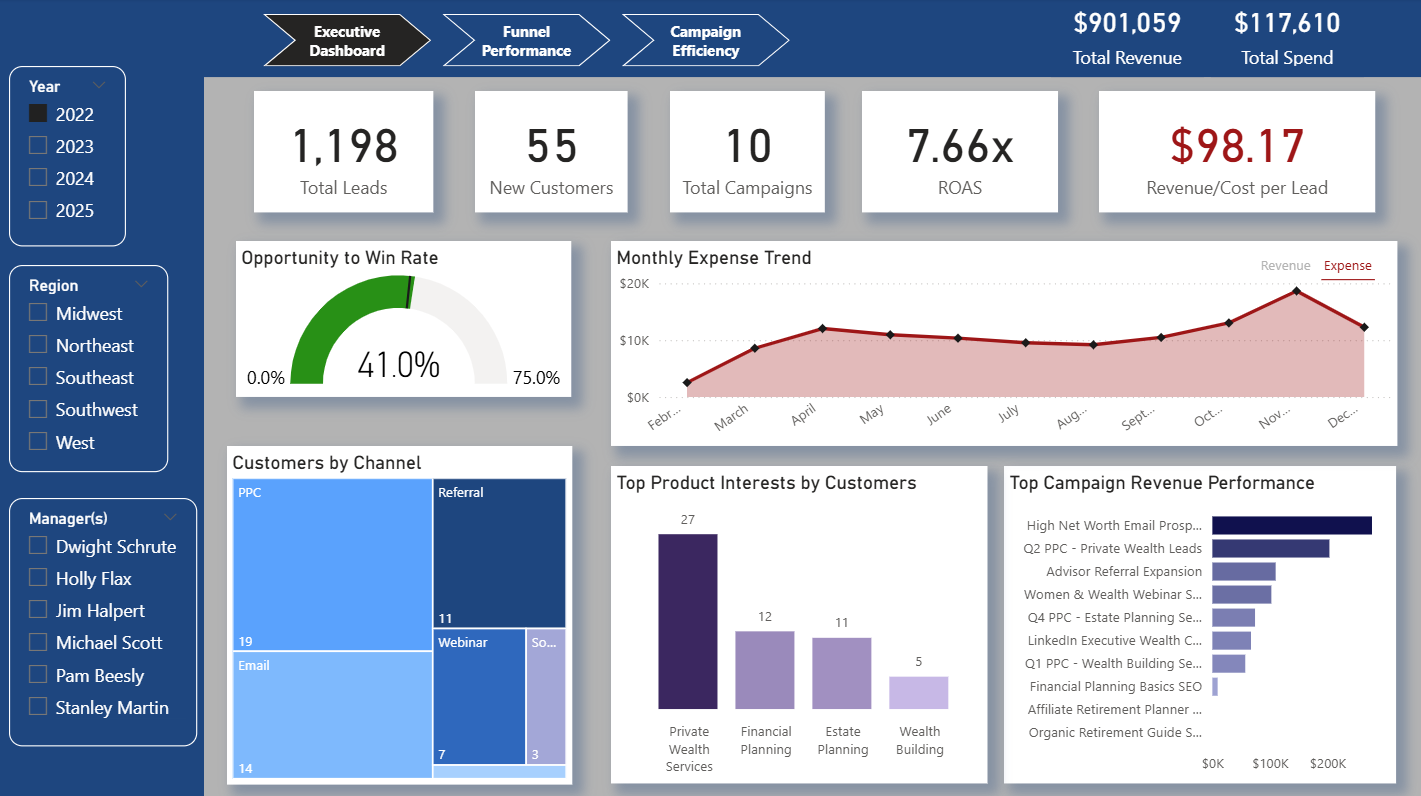

The page's visual inventory and layout, read from the dashboard file:
{"tool":"powerbi","page":{"name":"Executive Dashboard","canvas":[1280,720],"ordinal":0},"visuals":[{"type":"shape","box":[0,0,1280,71],"z":0},{"type":"shape","box":[0,0,184.9,720],"z":1000},{"type":"slicer","fields":{"Values":["Dim_Date.Date.Variation.Date Hierarchy.Year"]},"box":[10,61,105,162],"z":2000},{"type":"card","fields":{"Values":["Measures (2).Total Leads"]},"box":[229.6,83.5,161,109],"z":3000},{"type":"slicer","fields":{"Values":["Dim_Region.RegionName"]},"box":[10,240,143,186],"z":4000},{"type":"slicer","fields":{"Values":["Dim_Campaign.OwnerName"]},"box":[10,449,169,223],"z":5000},{"type":"card","fields":{"Values":["Measures (2).Total Campaigns"]},"box":[603.6,83.5,139,109],"z":6000},{"type":"gauge","title":"Opportunity to Win Rate","fields":{"Y":["Measures (2).Opportunity to Customer Rate"],"TargetValue":["Measures (2).Target Rate"],"MaxValue":["Measures (2).CR4"]},"box":[213.8,218.2,301,140],"z":7000},{"type":"card","fields":{"Values":["Measures (2).Total Customers"]},"box":[428.6,83.5,137,109],"z":8000},{"type":"treemap","title":"Customers by Channel","fields":{"Group":["Dim_Channel.ChannelName"],"Values":["Measures (2).Total Customers"]},"box":[205.4,402,309.5,303.7],"z":9000},{"type":"clusteredBarChart","title":"Top Campaign Revenue Performance","fields":{"Category":["Dim_Campaign.CampaignName"],"Y":["Measures (2).Total Revenue"]},"box":[903.3,420.5,352.4,285.2],"z":10000},{"type":"areaChart","fields":{"Y":["Measures (2).Total Spend"],"Category":["Dim_Date.Date.Variation.Date Hierarchy.Month"]},"box":[550.3,218.2,705.6,184],"z":11000},{"type":"columnChart","title":"Top Product Interests by Customers","fields":{"Category":["Dim_Audience.ProductInterest"],"Y":["Measures (2).Total Customers"]},"box":[550,420.5,337.8,285.2],"z":12000},{"type":"card","fields":{"Values":["Measures (2).Total Revenue"]},"box":[945,0,137,71],"z":13000},{"type":"card","fields":{"Values":["Measures (2).Total Spend"]},"box":[1089,0,137,71],"z":14000},{"type":"card","fields":{"Values":["Measures (2).ROAS"]},"box":[775.6,83.5,176,109],"z":15000},{"type":"card","fields":{"Values":["pmr_trends.Selected KPI Value"]},"box":[988,83.7,248.2,109],"z":16000},{"type":"pageNavigator","box":[238,14,473,47],"z":17000},{"type":"advancedSlicerVisual","fields":{"Values":["pmr_trends.pmr_trends"]},"box":[1132.1,225.3,104.1,28.7],"z":18500}]}

Visuals, with their boxes in screenshot pixels (x1, y1, x2, y2), scaled from the page's 1280x720 canvas onto the 1421x796 screenshot:
shape: locate(0, 0, 1420, 78)
shape: locate(0, 0, 205, 795)
slicer - Dim_Date.Date.Variation.Date Hierarchy.Year: locate(11, 67, 128, 247)
card - Measures (2).Total Leads: locate(255, 92, 434, 213)
slicer - Dim_Region.RegionName: locate(11, 265, 170, 471)
slicer - Dim_Campaign.OwnerName: locate(11, 496, 199, 743)
card - Measures (2).Total Campaigns: locate(670, 92, 824, 213)
"Opportunity to Win Rate" gauge: locate(237, 241, 572, 396)
card - Measures (2).Total Customers: locate(476, 92, 628, 213)
"Customers by Channel" treemap: locate(228, 444, 572, 780)
"Top Campaign Revenue Performance" clusteredBarChart: locate(1003, 465, 1394, 780)
areaChart - Measures (2).Total Spend x Dim_Date.Date.Variation.Date Hierarchy.Month: locate(611, 241, 1394, 445)
"Top Product Interests by Customers" columnChart: locate(611, 465, 986, 780)
card - Measures (2).Total Revenue: locate(1049, 0, 1201, 78)
card - Measures (2).Total Spend: locate(1209, 0, 1361, 78)
card - Measures (2).ROAS: locate(861, 92, 1056, 213)
card - pmr_trends.Selected KPI Value: locate(1097, 93, 1372, 213)
pageNavigator: locate(264, 15, 789, 67)
advancedSlicerVisual - pmr_trends.pmr_trends: locate(1257, 249, 1372, 281)
